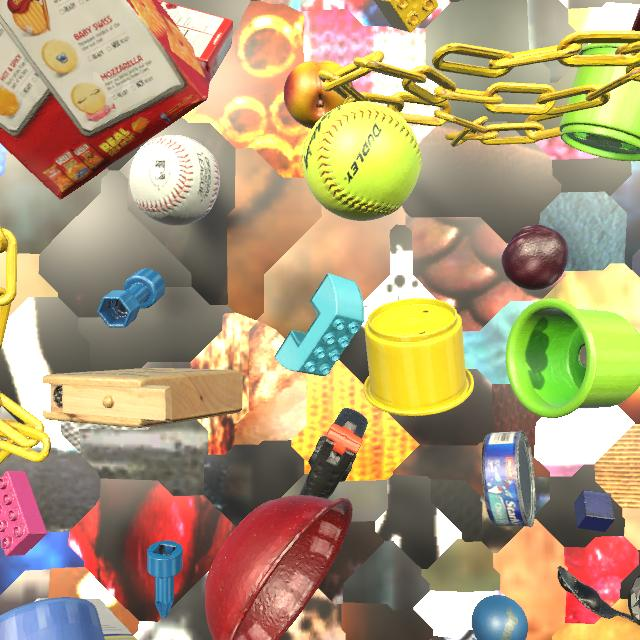ycb_003_cracker_box: (0, 0, 211, 200), (631, 7, 640, 31)
ycb_004_sugar_box: (34, 598, 137, 640)
ycb_007_tuna_fish_can: (481, 430, 536, 527)
ycb_009_gelatin_box: (158, 0, 233, 81)
ycb_015_peach: (283, 61, 353, 129)
ycb_018_plum: (501, 225, 568, 290)
